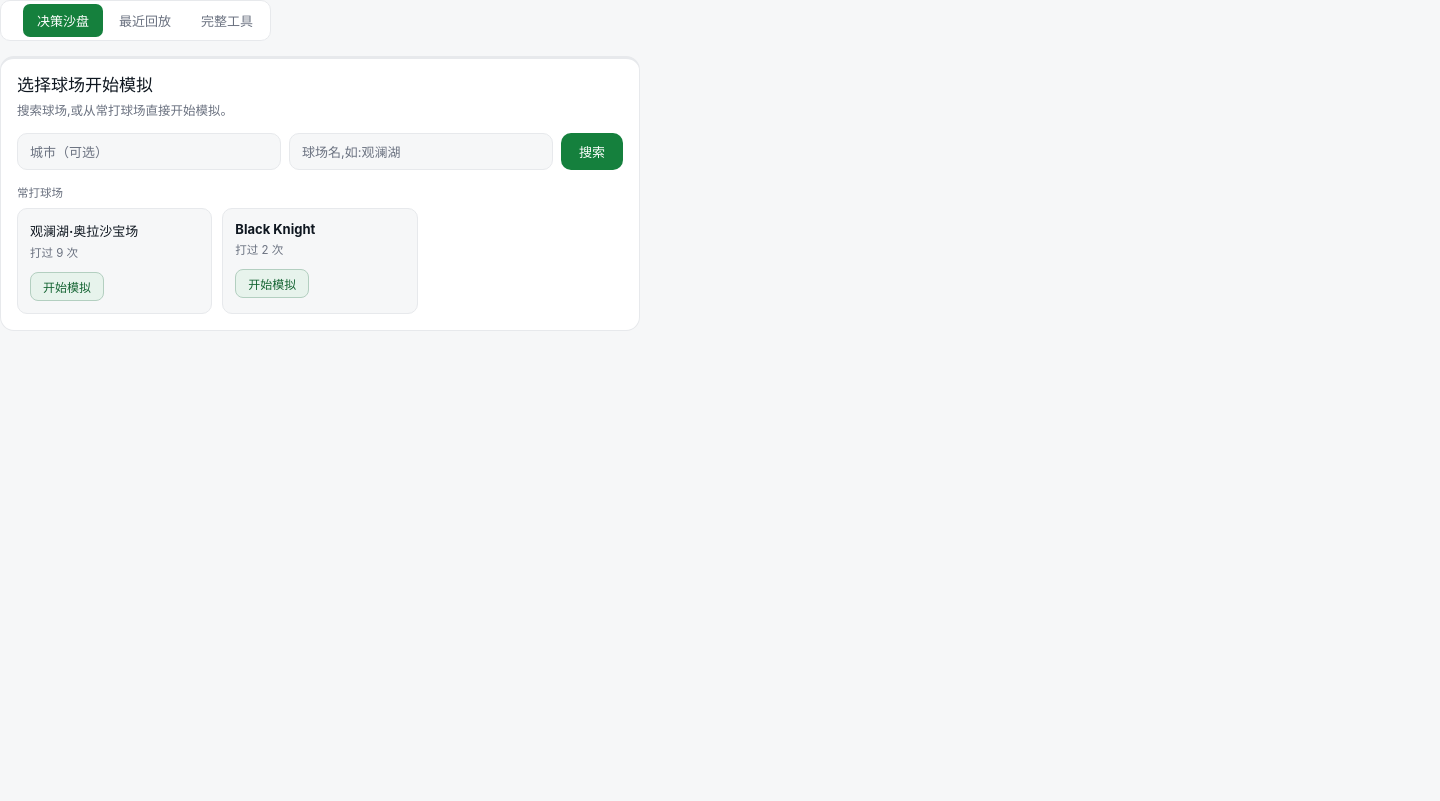
Scenario: LivePage 最近回放 detail › surfaces a zh error with 重试 that refetches the same round
The width and height of the screenshot is (1440, 801).
Click the button "最近回放": {"x": 145, "y": 20} left=105, top=4, right=185, bottom=37
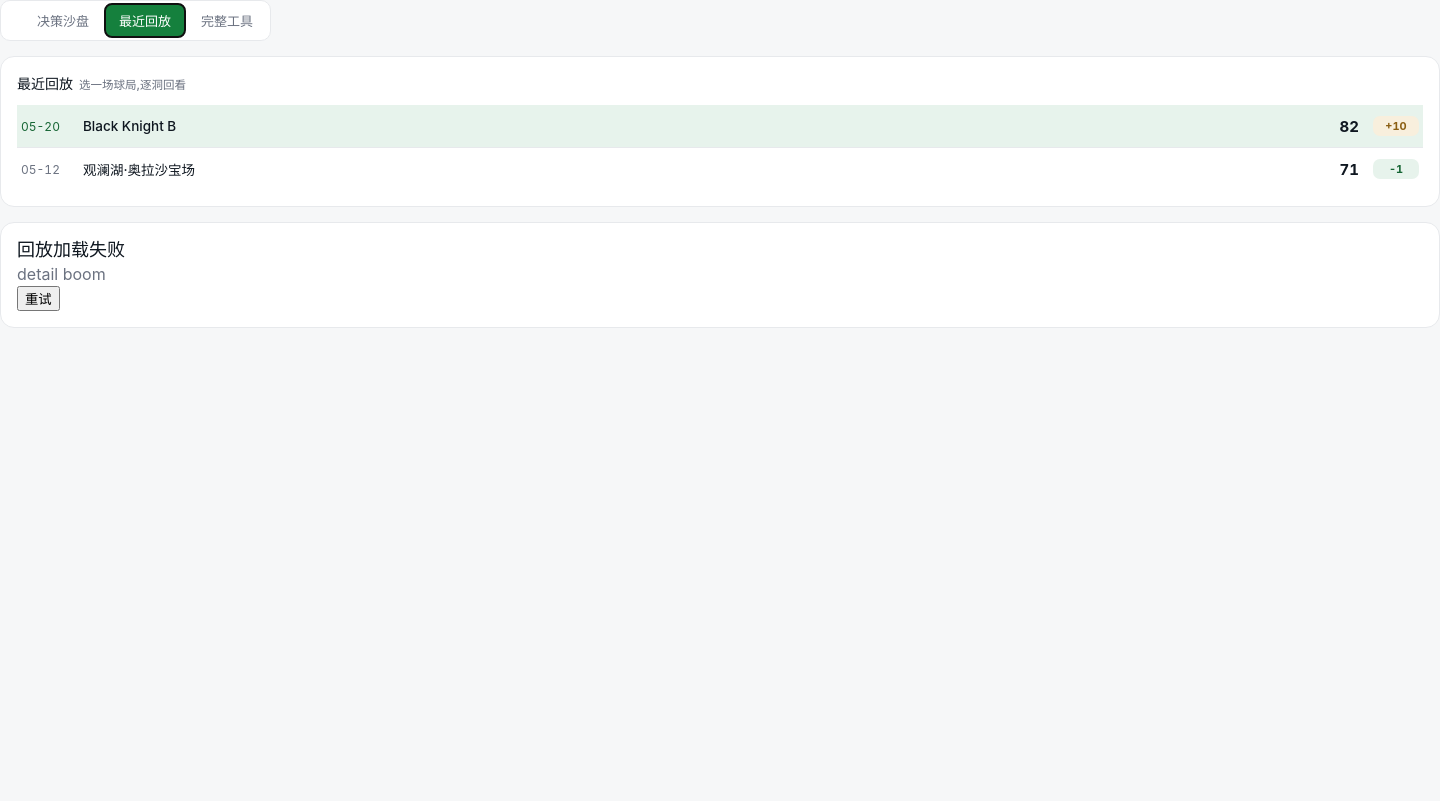
Check: the text "detail boom" is shown, box left=17, top=264, right=106, bottom=284
Click the button "重试": {"x": 38, "y": 298} left=17, top=286, right=60, bottom=310
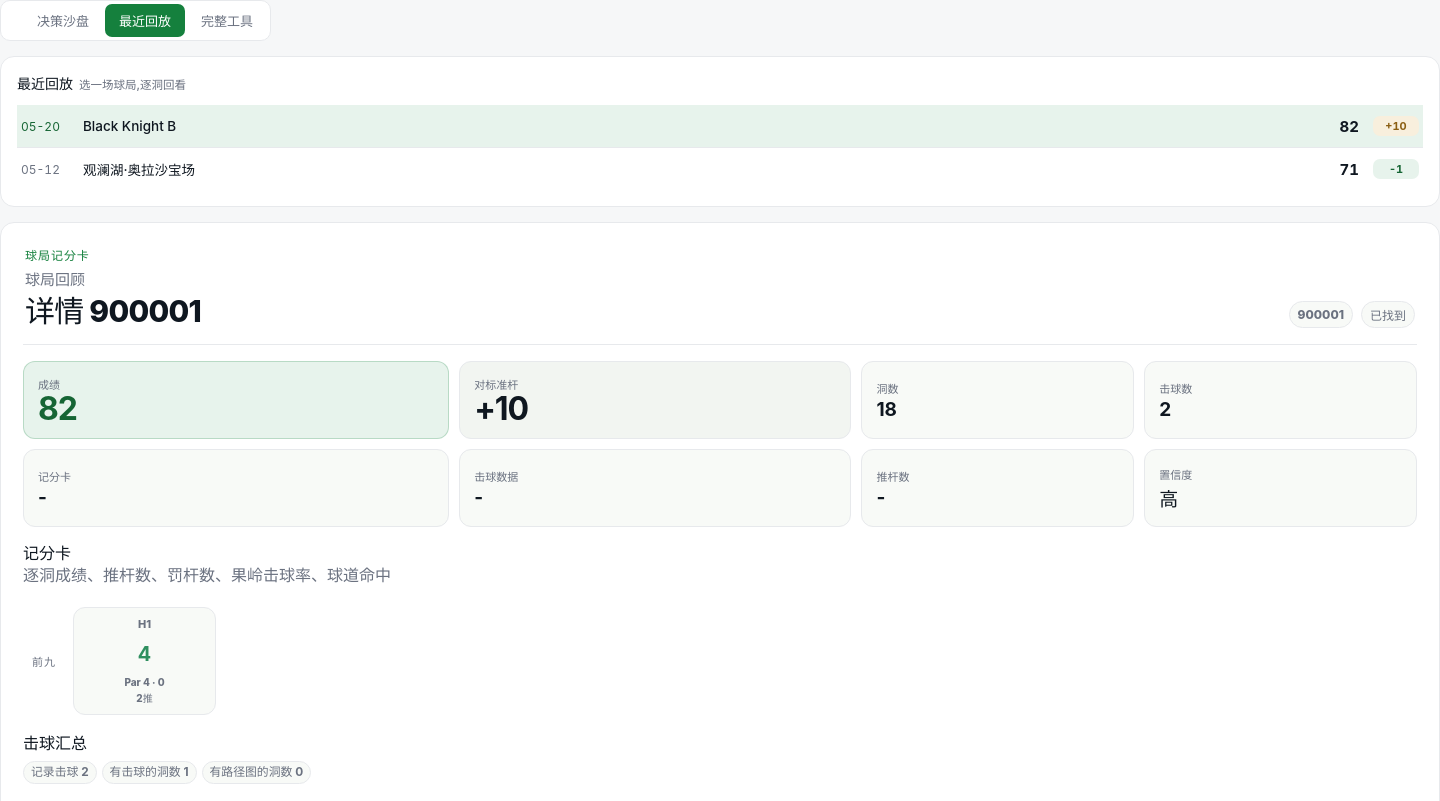
Check: the text "详情 900001" is shown, box left=25, top=294, right=201, bottom=328
